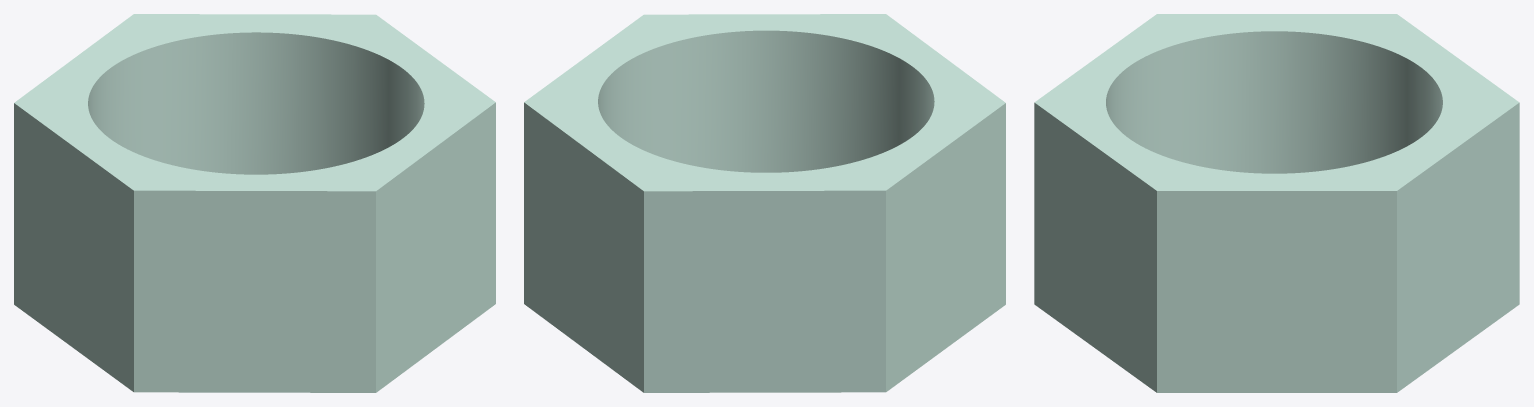
The picture shows the model from 3 angles, left to right: view 1: azimuth 30°, elevation 25°; view 2: azimuth 150°, elevation 25°; view 3: azimuth 270°, elevation 25°; orthographic projection.
Parts seen in each view (by area): view 1: Renderer Node; view 2: Renderer Node; view 3: Renderer Node.
Part boxes in pixels (x1,y1,x2,y2): Renderer Node: [14, 14, 495, 392]; Renderer Node: [524, 14, 1005, 392]; Renderer Node: [1034, 14, 1519, 392].
Bounding box in the file's own units: 0.499 × 0.2656 × 0.5781.
